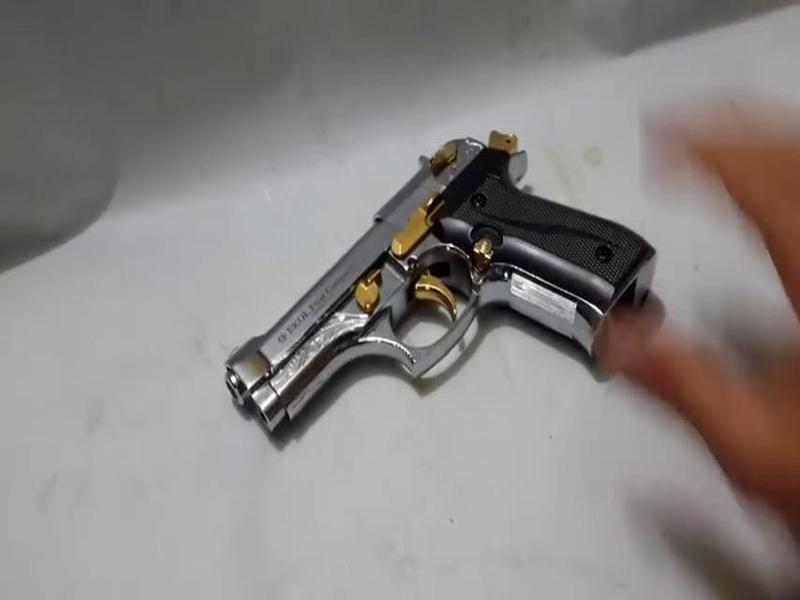Pistola: (195, 92, 660, 479)
